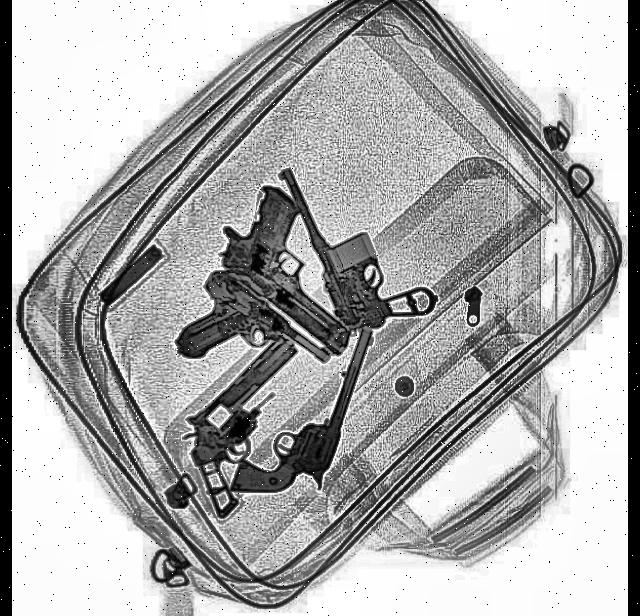Gun: (271, 121, 439, 353), (162, 322, 340, 518), (228, 294, 376, 524), (206, 170, 388, 356), (166, 258, 332, 434)
